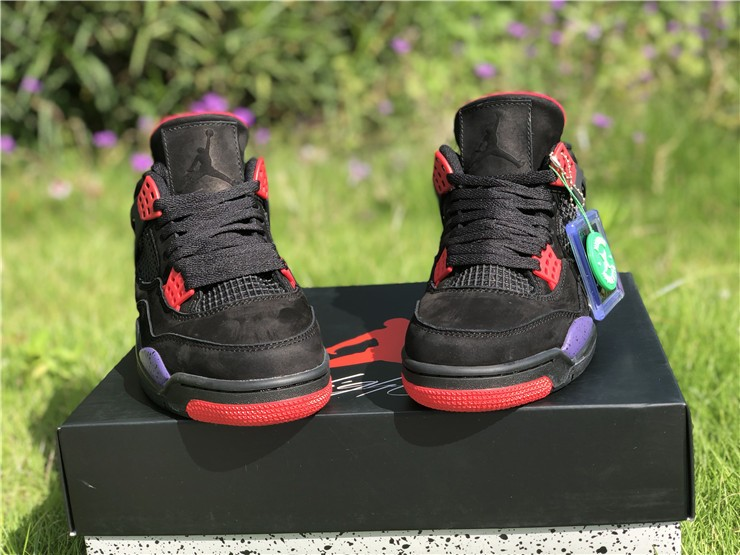Air Jordan 4 Raptors: (90, 96, 370, 432), (396, 77, 664, 422)
